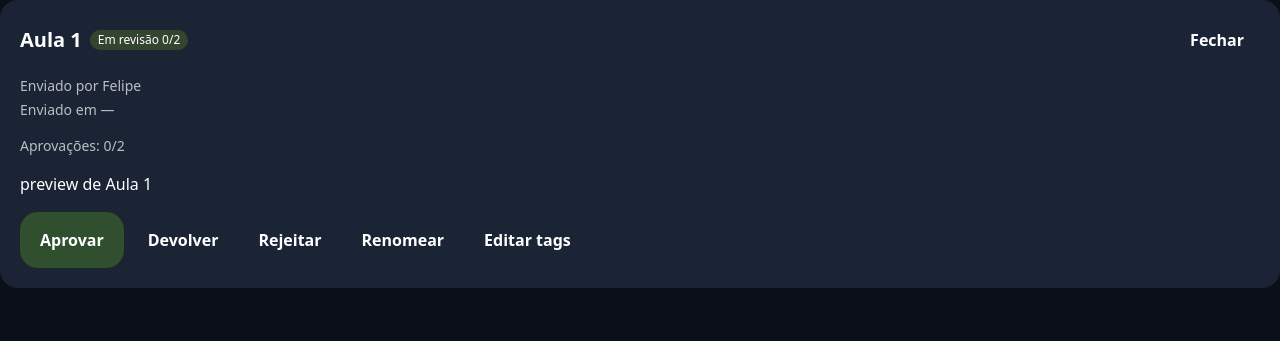
Test: ItemDetail — votos de publicação › curador que não é o autor vê Aprovar, Devolver e Rejeitar e aprova
Check: the heading "Aula 1" is shown, box top-left (20, 26), bottom-right (82, 54)
Click the button "Aprovar". click: (72, 240)
box: top-left (20, 212), bottom-right (124, 268)
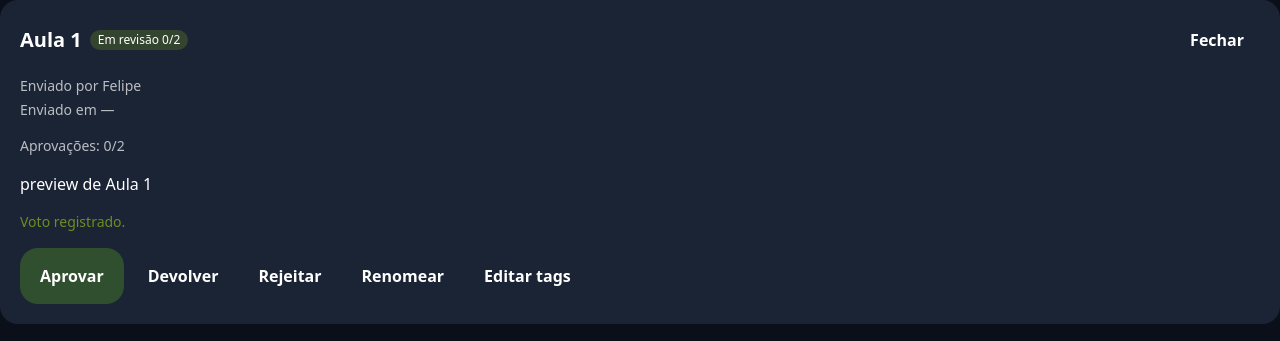
Check: the message reads "Voto registrado.", box top-left (20, 212), bottom-right (125, 231)
